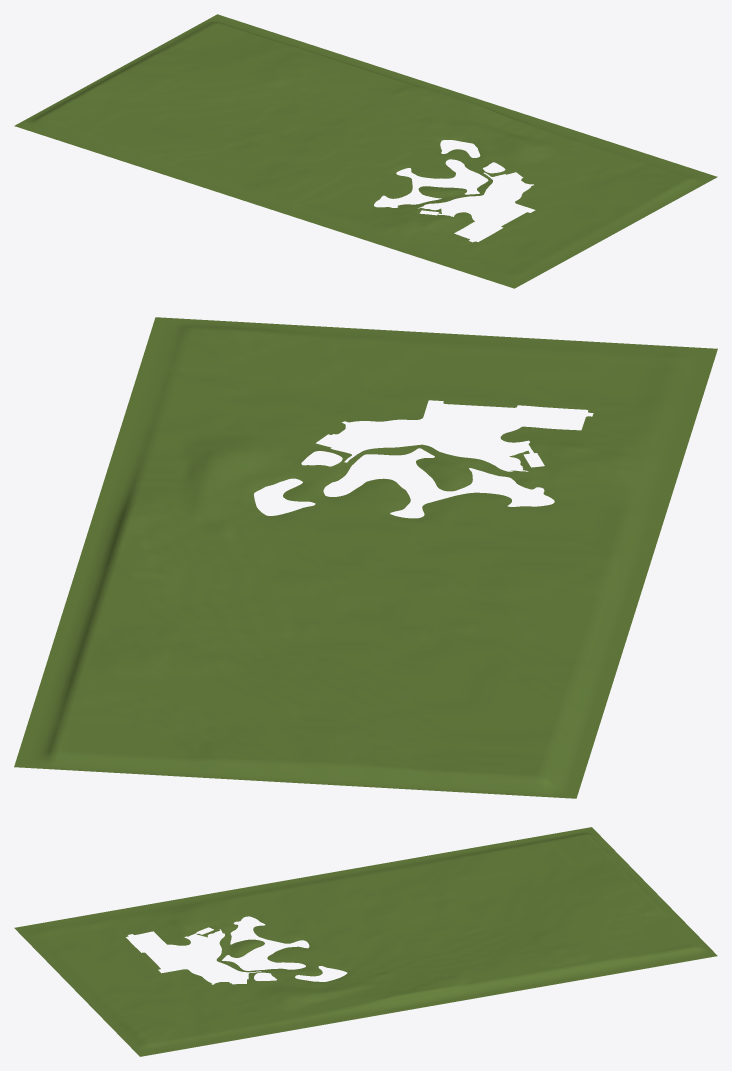
File: landscape1.glb
The picture shows the model from 3 angles, top to bottom: view 1: azimuth 30°, elevation 25°; view 2: azimuth 150°, elevation 25°; view 3: azimuth 270°, elevation 25°; orthographic projection. The views are drawn at different scales.
Visible parts, largest first — view 1: landscape1; view 2: landscape1; view 3: landscape1.
Part boxes in pixels (box(x1,y1,x2,y2)): landscape1: box(14, 14, 717, 288); landscape1: box(14, 317, 717, 798); landscape1: box(14, 827, 717, 1056).
Bounding box in the file's own units: 2384 × 28.96 × 3085.
Materials: 1 (1 with a texture image).
